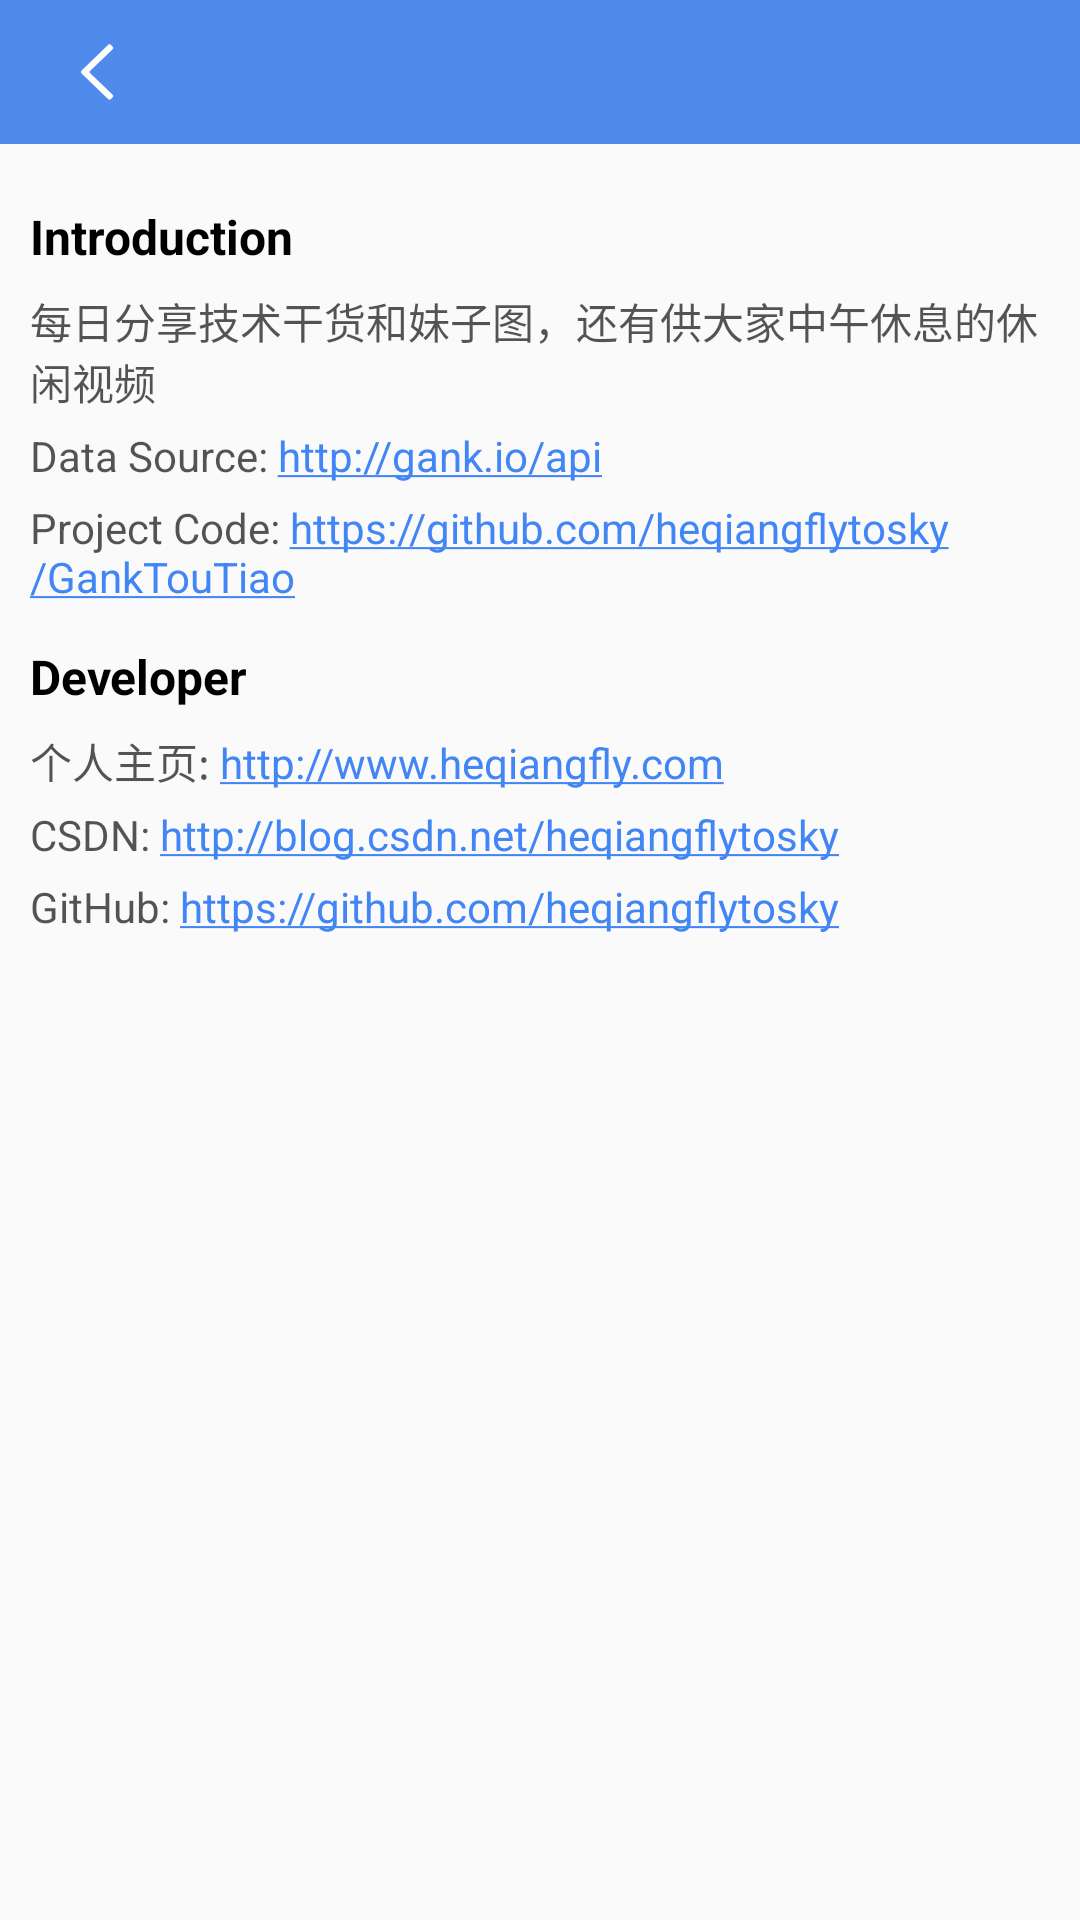

Icon click points for this 1080*1920 phone screenshot, format point (x, y):
back: point (97, 72)
